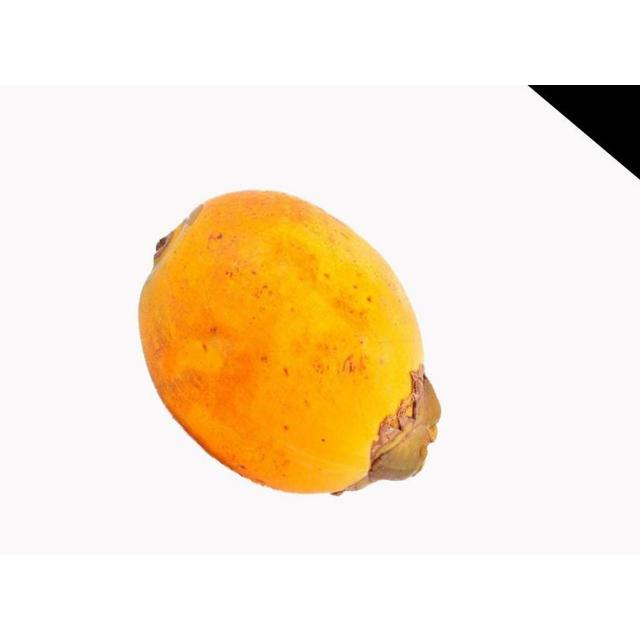good: (137, 190, 443, 498)
